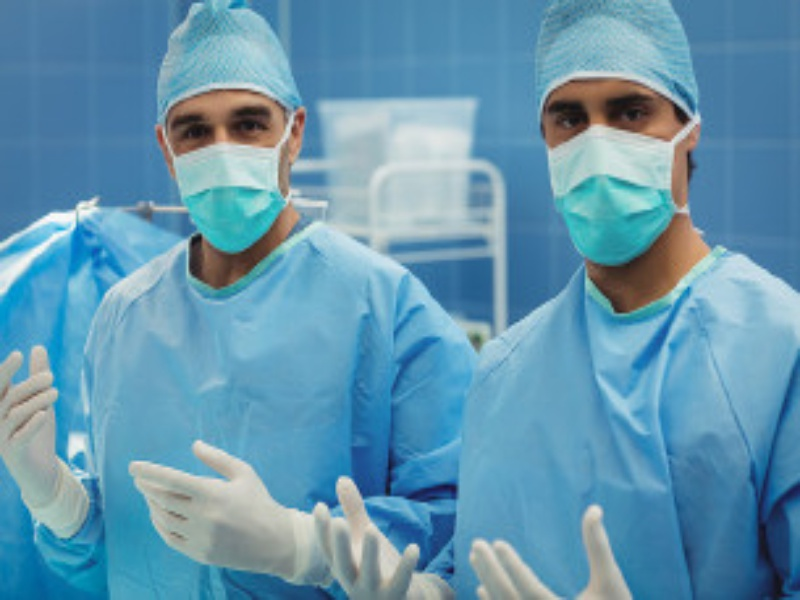mask: (515, 18, 709, 266), (144, 15, 322, 259)
